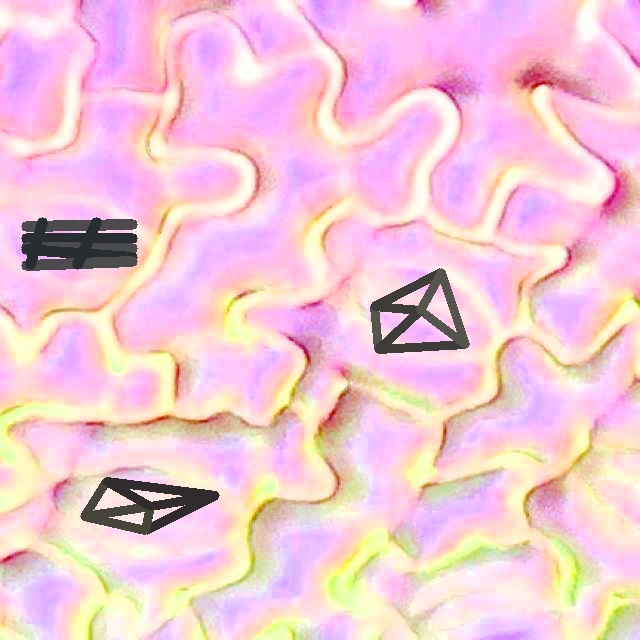open: (370, 268, 469, 353), (80, 477, 219, 534), (22, 217, 136, 269)
